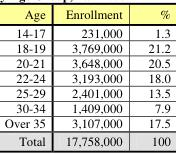table: (3, 4, 169, 148)
table column: (54, 4, 134, 148), (3, 4, 54, 148), (134, 4, 169, 148)
table column header: (3, 4, 169, 22)
table row: (3, 4, 169, 22), (3, 22, 169, 39), (3, 114, 169, 131), (3, 131, 169, 148), (3, 39, 169, 54), (3, 54, 169, 69), (3, 69, 169, 84), (3, 84, 169, 99), (3, 99, 169, 114)
